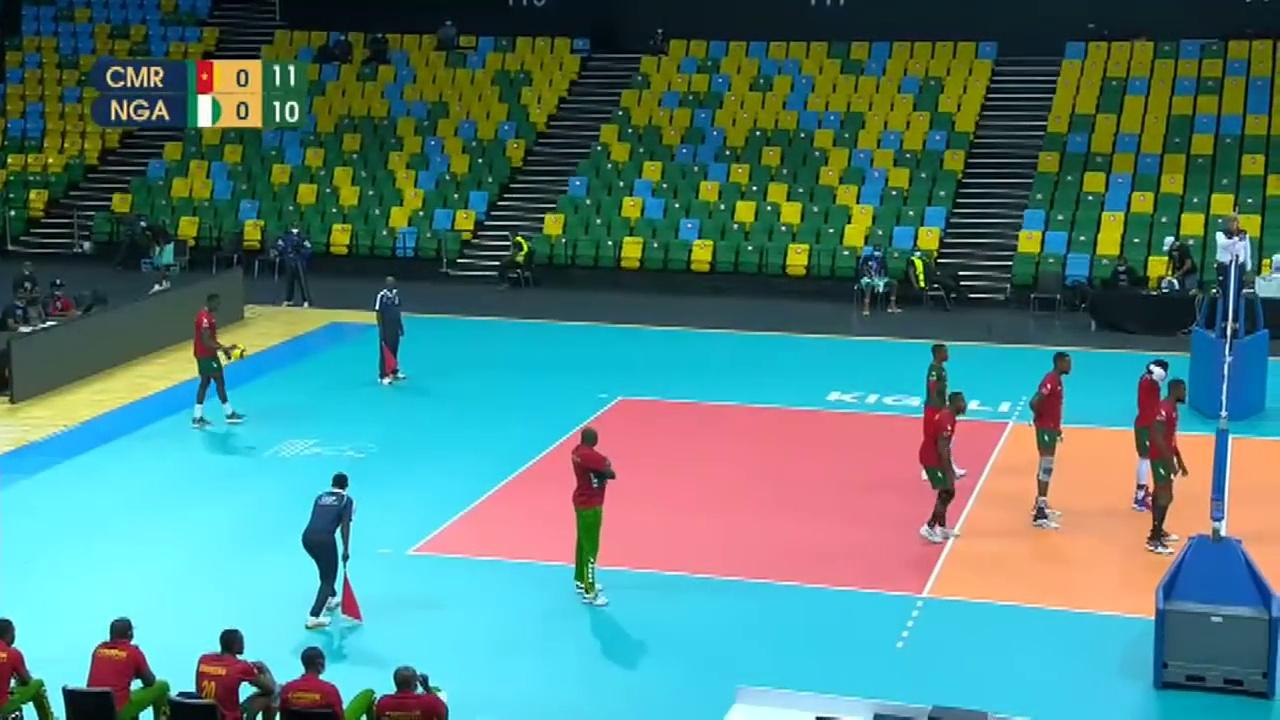player: (190, 291, 247, 428), (922, 388, 970, 542), (1027, 355, 1070, 525), (1152, 377, 1191, 559), (1126, 356, 1171, 508), (921, 336, 961, 475)
refree: (299, 476, 358, 623), (1216, 211, 1254, 316), (375, 276, 406, 387)
